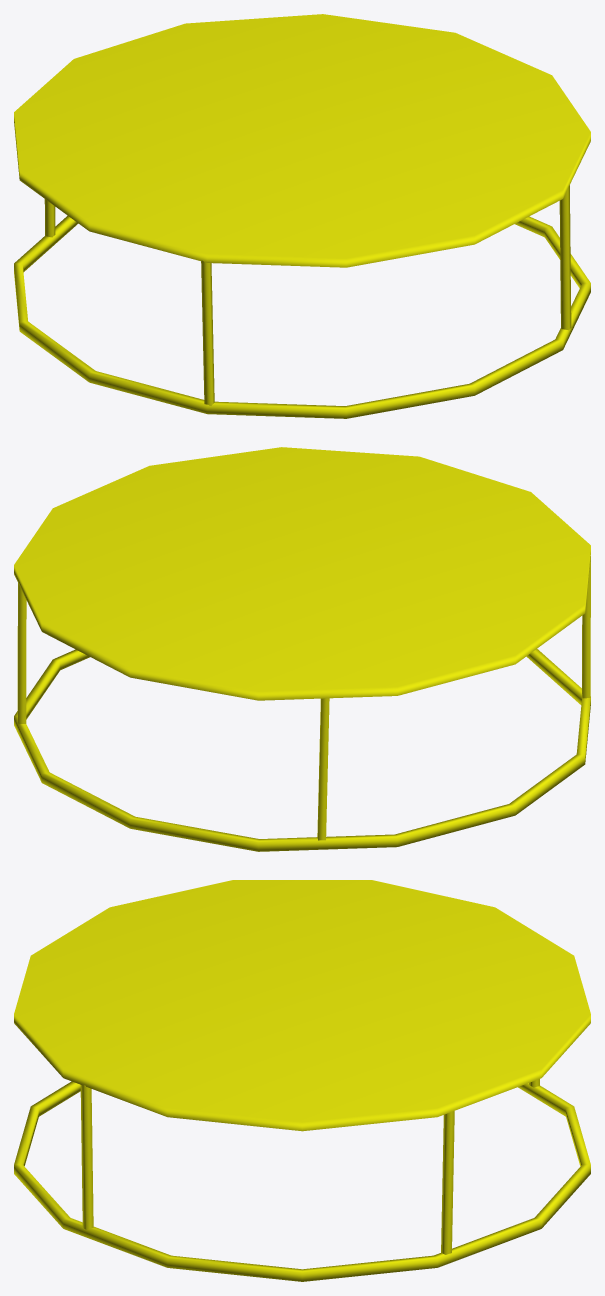
File: MESA DECORATIVA.fbx
The picture shows the model from 3 angles, top to bottom: view 1: azimuth 30°, elevation 25°; view 2: azimuth 150°, elevation 25°; view 3: azimuth 270°, elevation 25°; orthographic projection.
Visible parts, largest first — view 1: MESA_DECORATIVA; view 2: MESA_DECORATIVA; view 3: MESA_DECORATIVA.
Part boxes in pixels (bbox=[...]): MESA_DECORATIVA: bbox=[14, 14, 590, 418]; MESA_DECORATIVA: bbox=[14, 447, 590, 851]; MESA_DECORATIVA: bbox=[14, 880, 590, 1281].
Bounding box in the file's own units: 2.16 × 0.6643 × 2.17.
